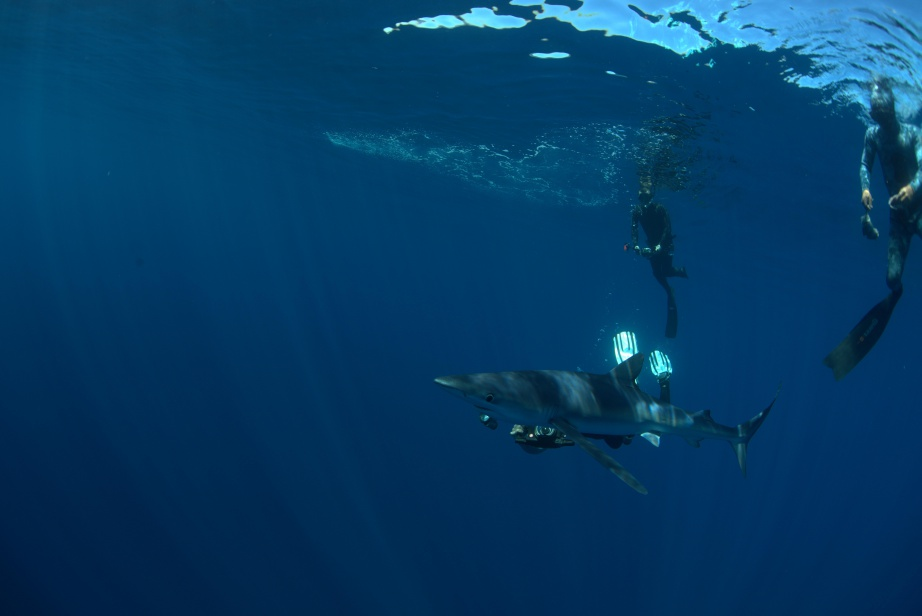Azul: (411, 333, 806, 508)
